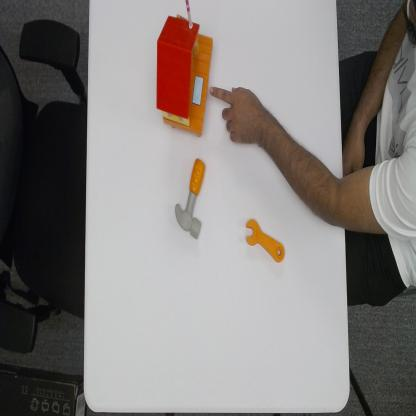Arm: (276, 122, 416, 236)
Hammer: (174, 154, 209, 242)
Hand: (208, 80, 276, 147)
House: (154, 0, 214, 139)
Screwdriver: (244, 216, 287, 263)
